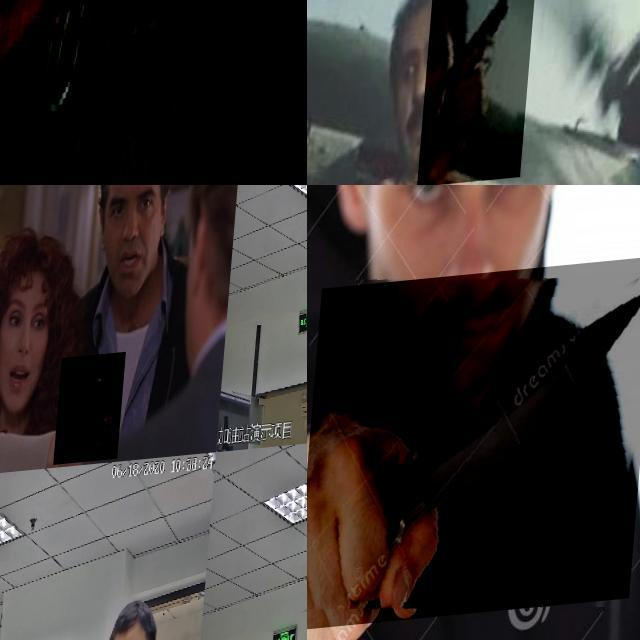-: (307, 267, 640, 633)
gun-knife-thesis - v11 Yolov5 augmented: (0, 0, 307, 185), (422, 0, 538, 185), (59, 356, 130, 468)
